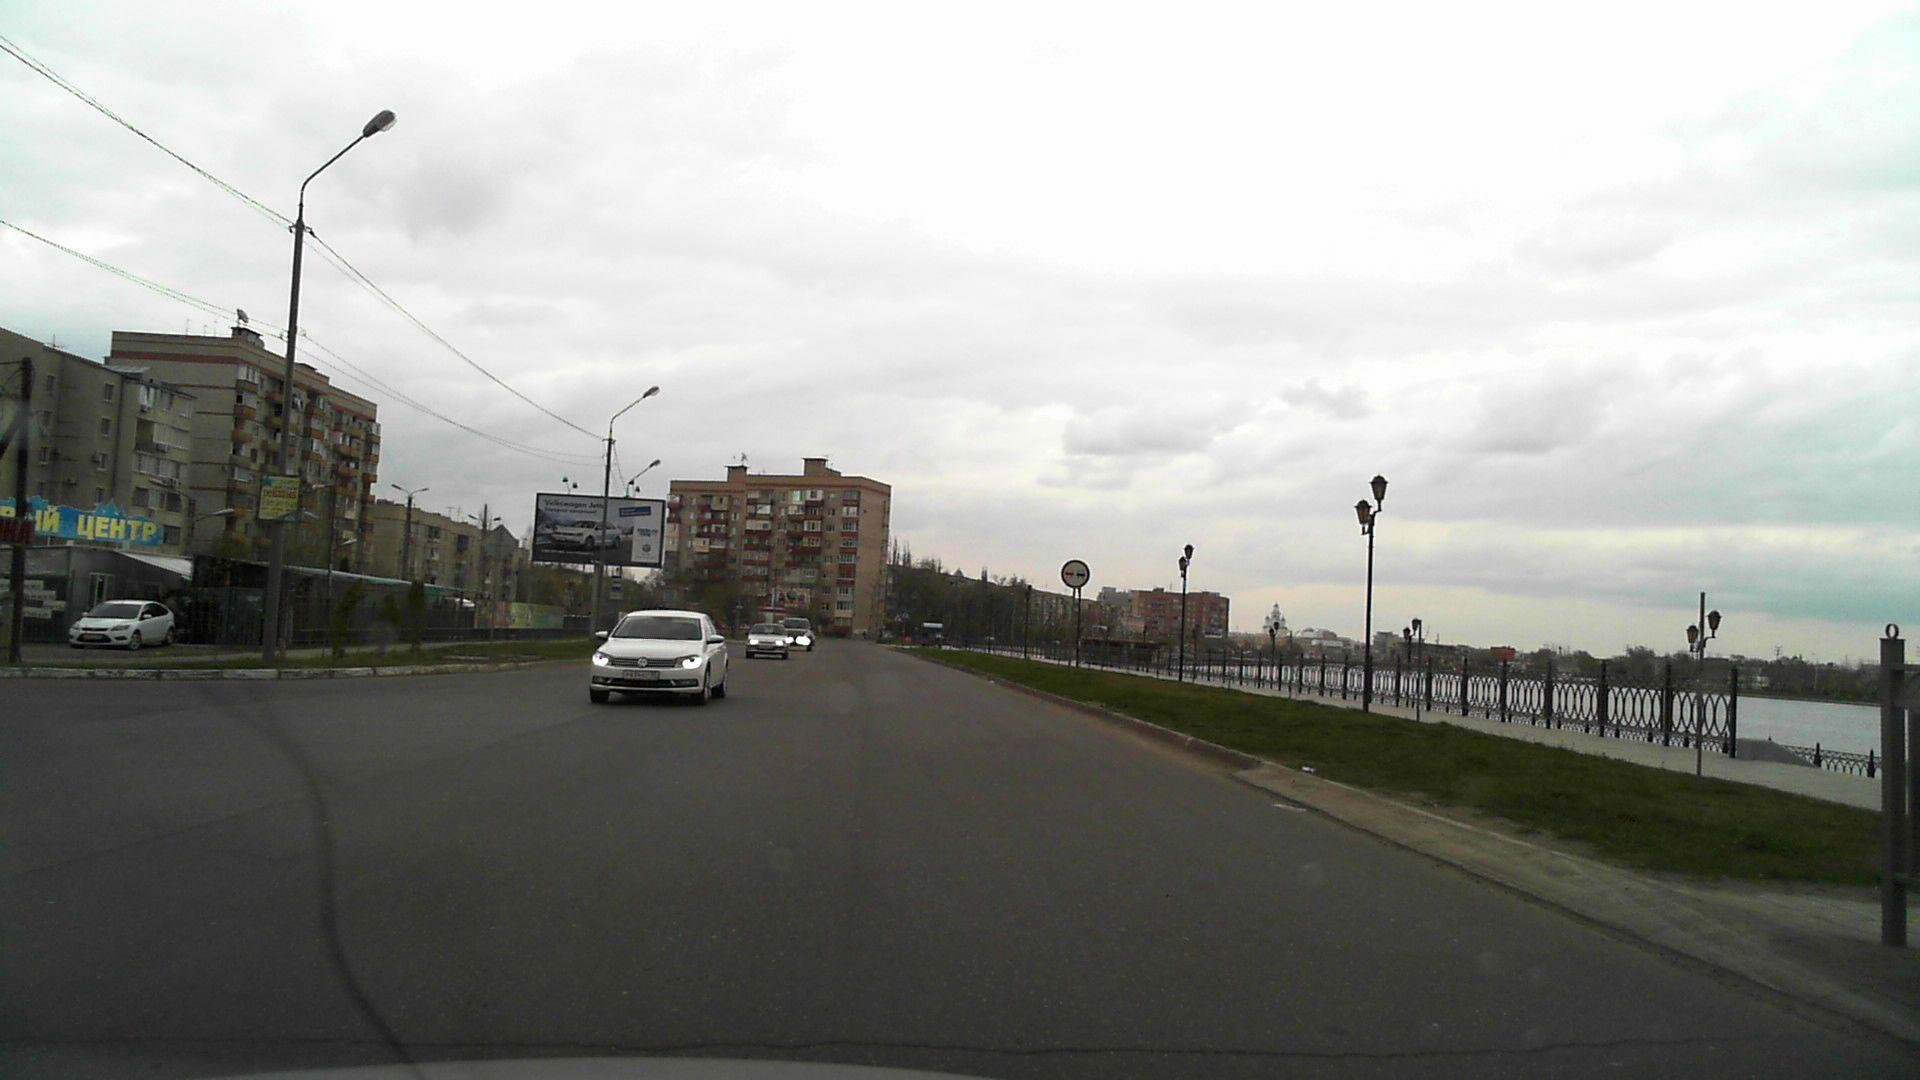1_11_1: (893, 613, 901, 622)
3_20: (1062, 556, 1092, 589)
5_19_1: (901, 609, 913, 620)
